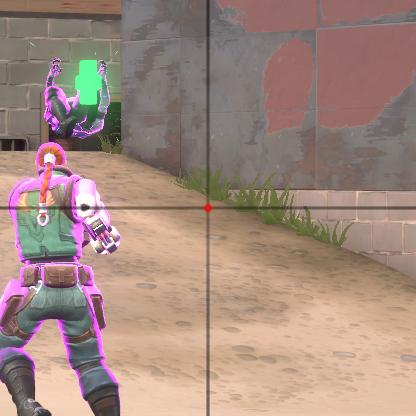enemyBody: (15, 189, 104, 302)
enemyHead: (41, 137, 67, 184)
